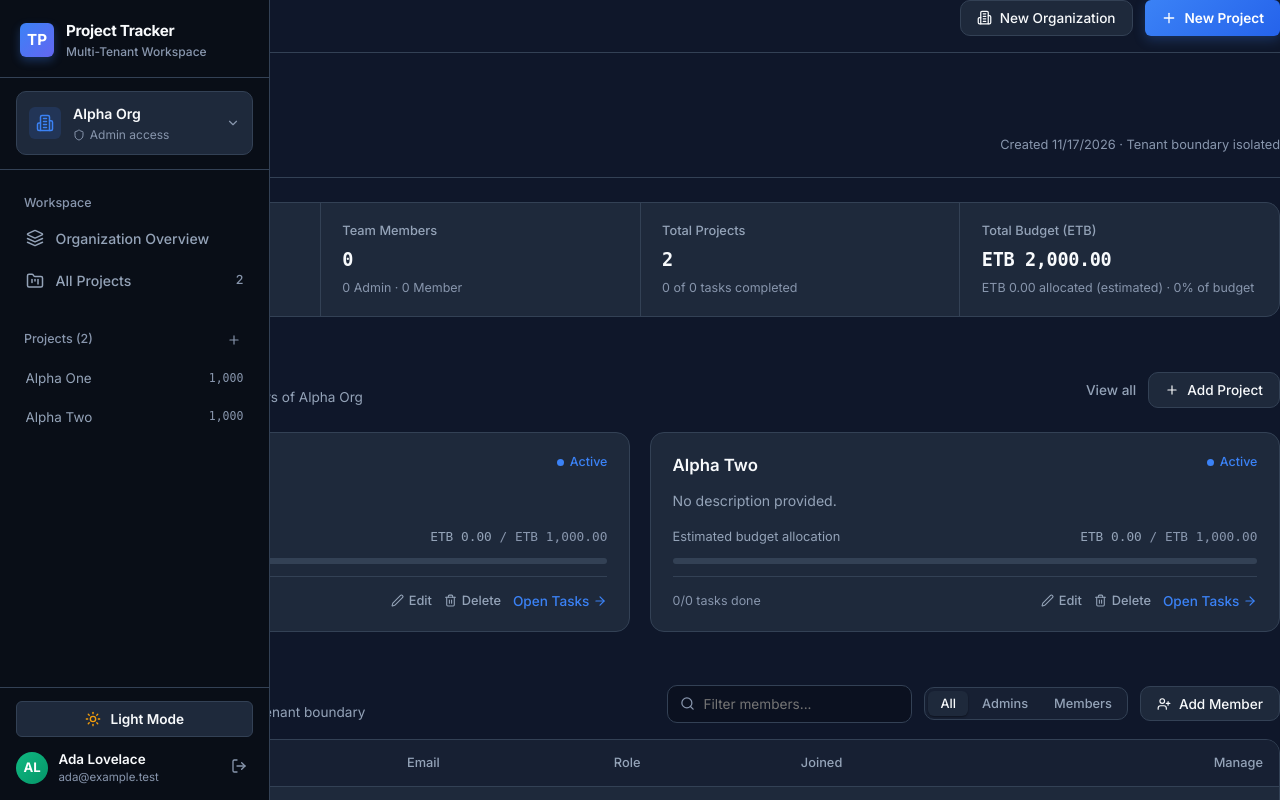
it: Failed operations never change the sidebar › a rejected delete keeps the project and the count, and does not refetch
The width and height of the screenshot is (1280, 800).
Click the button with aria-label "Delete project Alpha Two" at (1122, 601), box top-left (1094, 594), bottom-right (1151, 608)
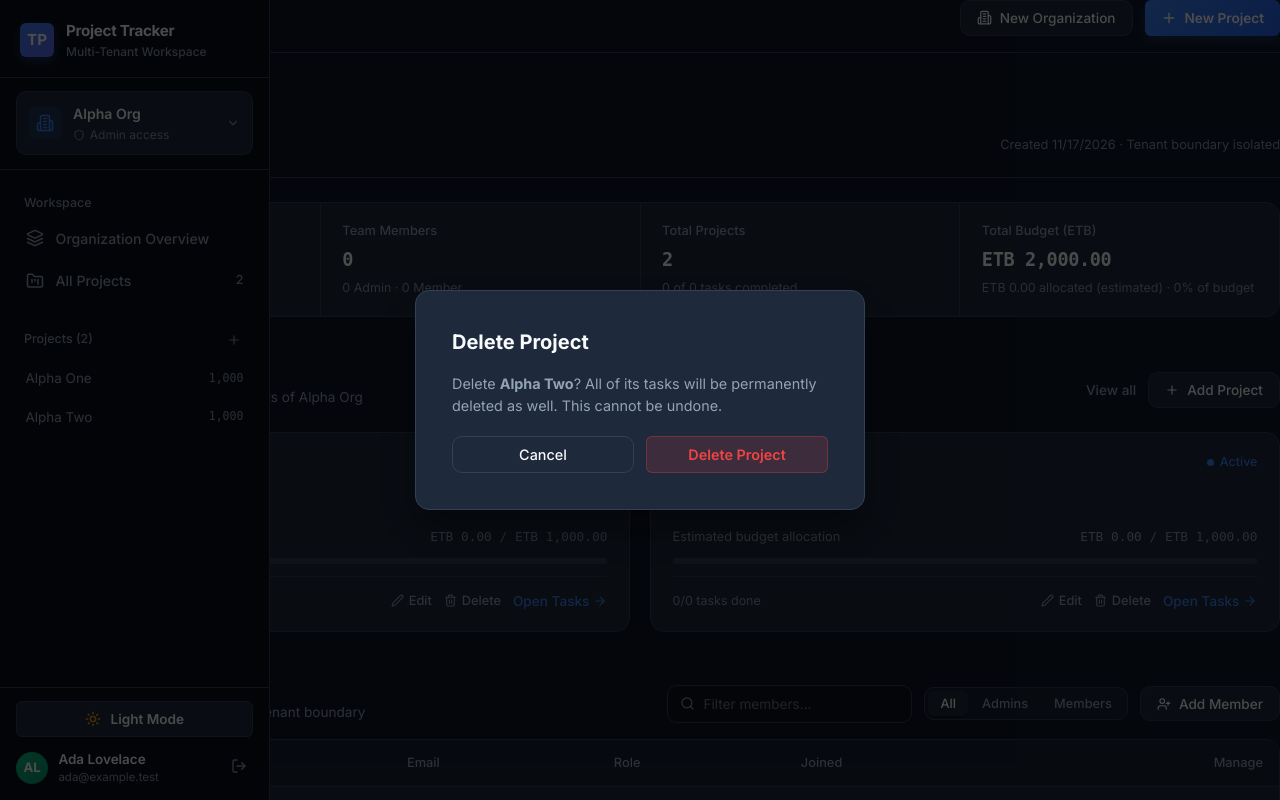
Click the button "Delete Project" at (737, 455), box top-left (646, 436), bottom-right (828, 473)
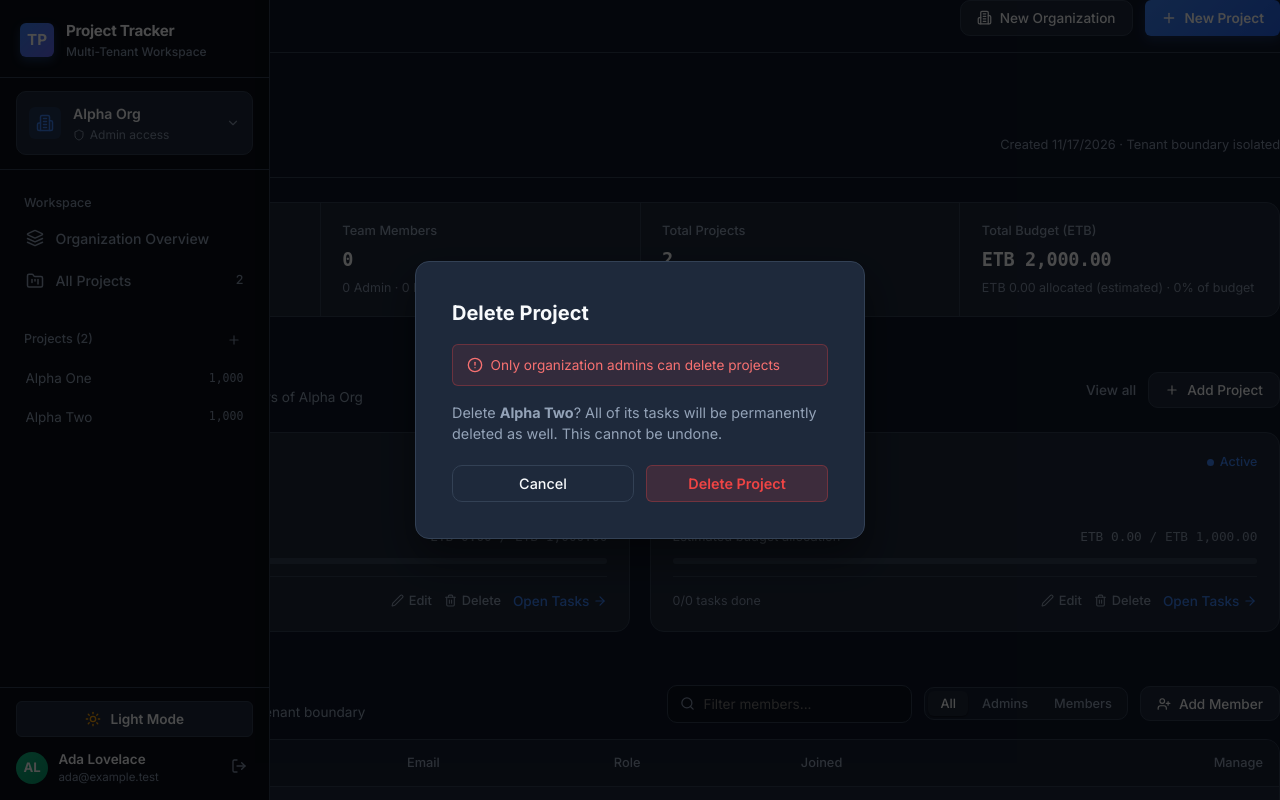
Check: the text "Projects (2)" is shown, box top-left (24, 330), bottom-right (93, 349)
Check: the text "Only organization admins can delete projects" is shown, box top-left (491, 355), bottom-right (780, 375)
